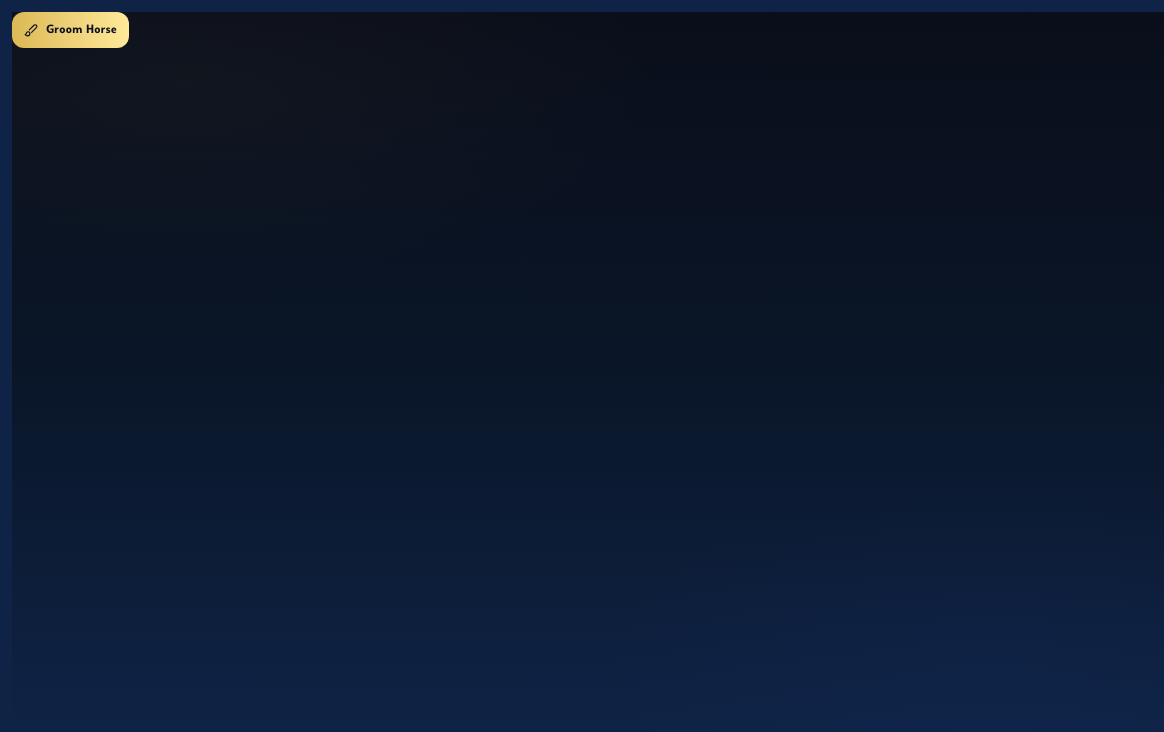
Test case: Groom Horse in Quick Actions (Equoria-7dje4) › opens a foal's activities for today, and choosing one grooms with it
Later steps or results of the test are not shown.
Click the button "Groom Horse" at (71, 30), box 12,12 -> 129,48
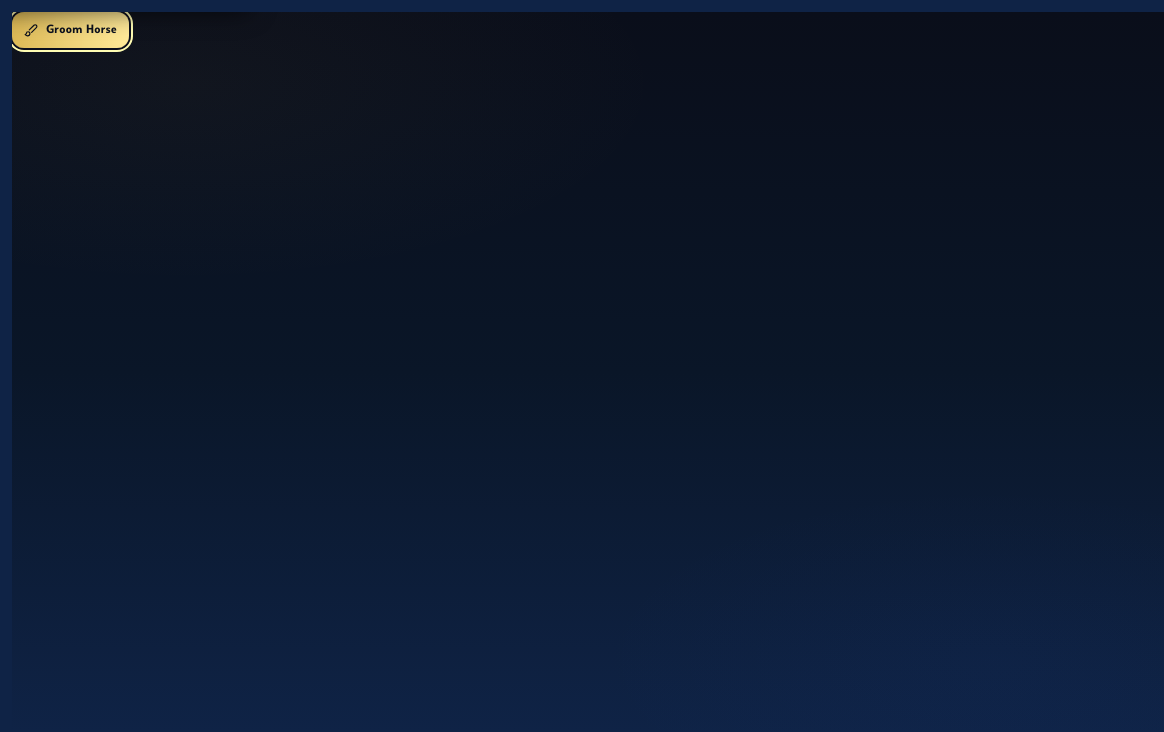
expect the button "Groom Horse" is expanded: met, box 12,12 -> 129,48
